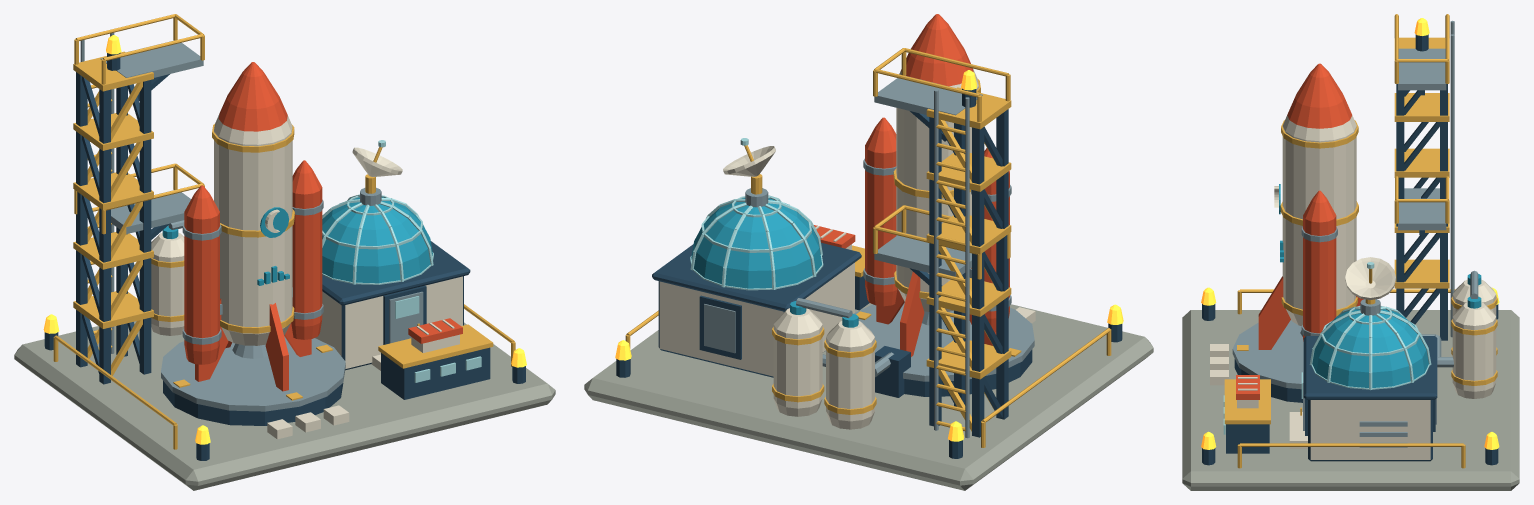
File: luna-lv3.glb
3 renders of one model, left to right at view 1: azimuth 30°, elevation 25°; view 2: azimuth 150°, elevation 25°; view 3: azimuth 270°, elevation 25°, orthographic. The views are drawn at different scales.
Parts seen in each view (by area): view 1: Luna_L3, Ocean_Explorer.002, Moon_Tracking_Dish.002; view 2: Luna_L3, Ocean_Explorer.002, Moon_Tracking_Dish.002; view 3: Luna_L3, Ocean_Explorer.002, Moon_Tracking_Dish.002.
Part boxes in pixels (box(x1,y1,x2,y2)): Luna_L3: box(14, 14, 555, 490); Ocean_Explorer.002: box(182, 62, 323, 391); Moon_Tracking_Dish.002: box(352, 140, 402, 193); Luna_L3: box(584, 48, 1153, 490); Ocean_Explorer.002: box(863, 14, 1011, 356); Moon_Tracking_Dish.002: box(723, 138, 775, 194); Luna_L3: box(1182, 14, 1519, 490); Ocean_Explorer.002: box(1258, 63, 1363, 349); Moon_Tracking_Dish.002: box(1345, 257, 1395, 304).
Size of the model in its own units: 5.5 by 5.03 by 4.65.
